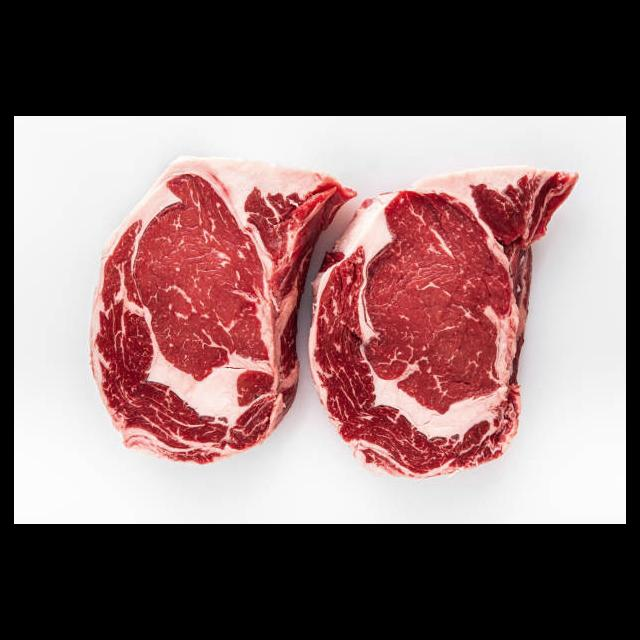beef: (307, 167, 579, 480), (90, 153, 357, 467)
